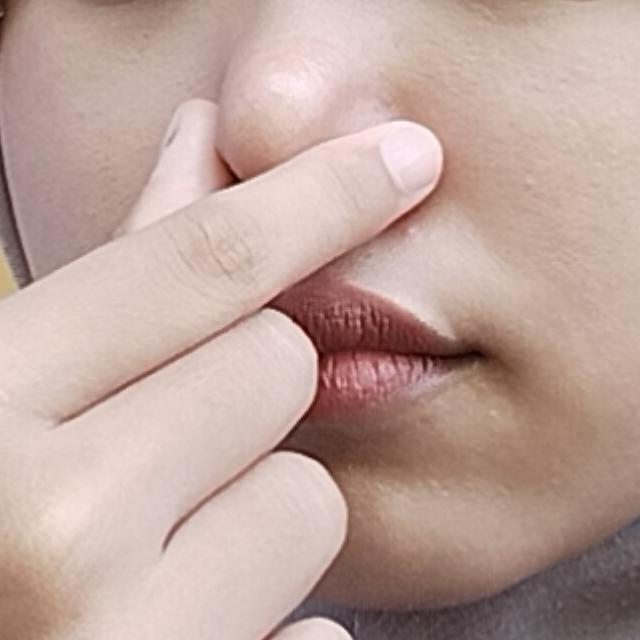bau: (0, 78, 586, 640)
